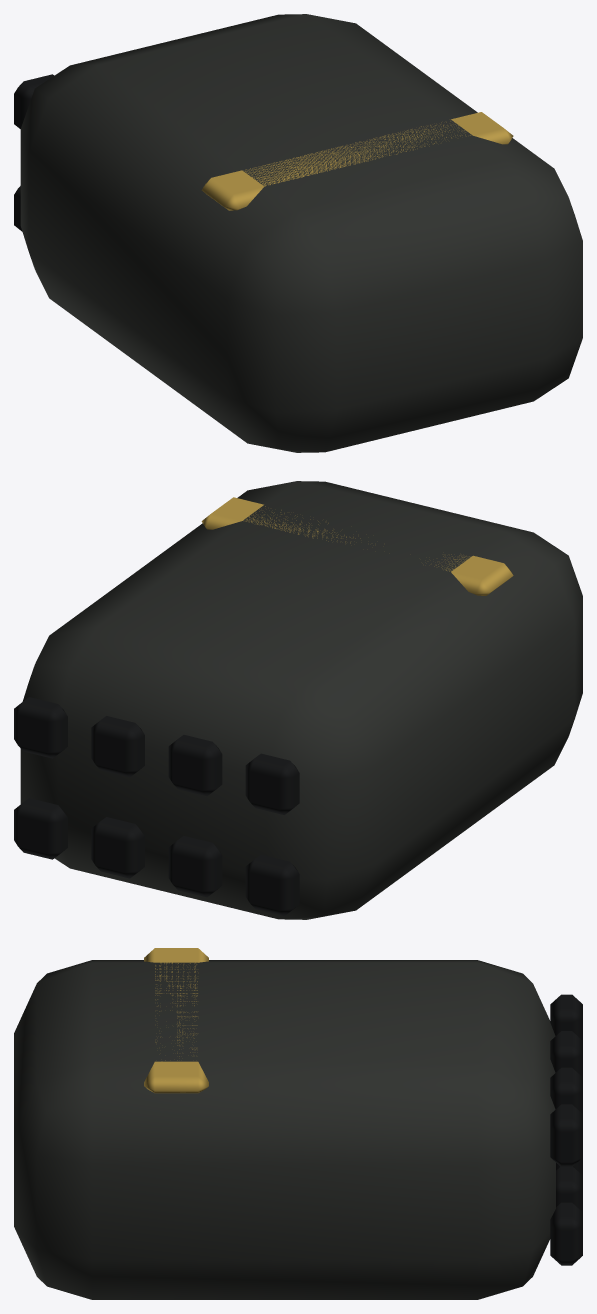
The model's file is Utility_Flares.fbx.
The picture shows the model from 3 angles, top to bottom: view 1: azimuth 30°, elevation 25°; view 2: azimuth 150°, elevation 25°; view 3: azimuth 270°, elevation 25°; orthographic projection. The views are drawn at different scales.
Parts seen in each view (by area): view 1: Utility_Flares; view 2: Utility_Flares; view 3: Utility_Flares.
Boxes of the visible parts, <box> form: Utility_Flares: <box>14,14,582,452</box>; Utility_Flares: <box>14,481,582,919</box>; Utility_Flares: <box>14,948,582,1299</box>.
Bounding box in the file's own units: 0.36 × 0.24 × 0.525.
